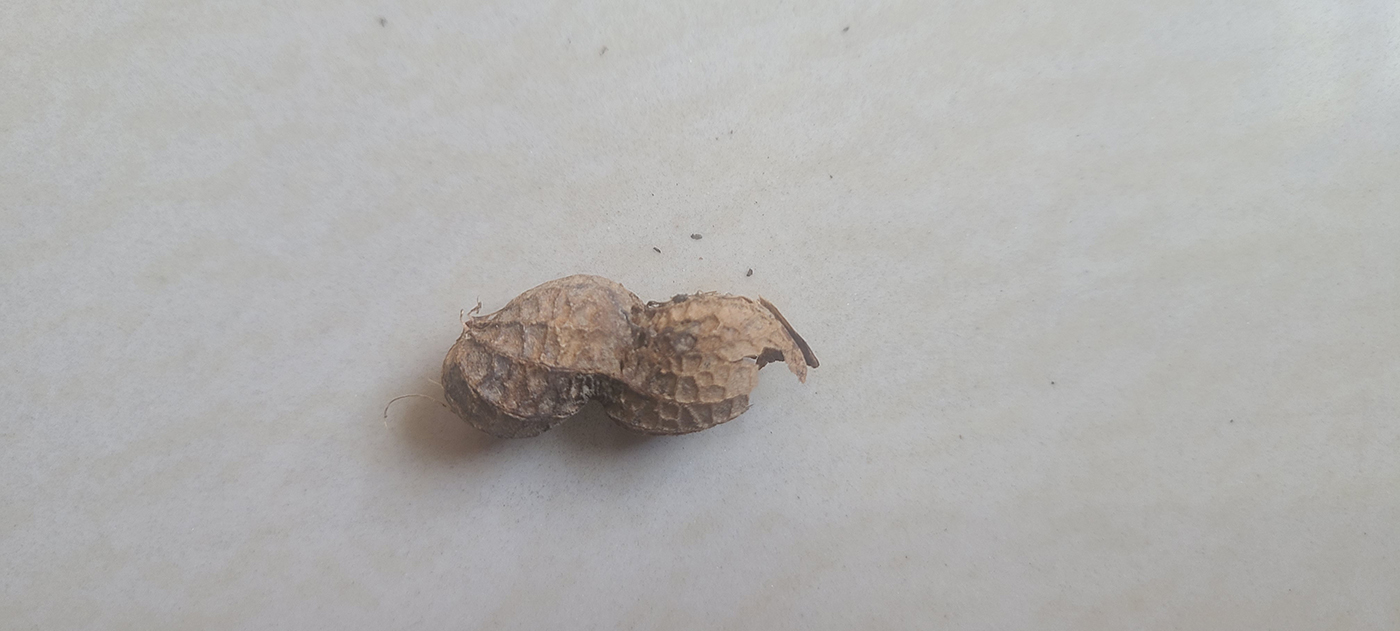l: (441, 272, 820, 443)
